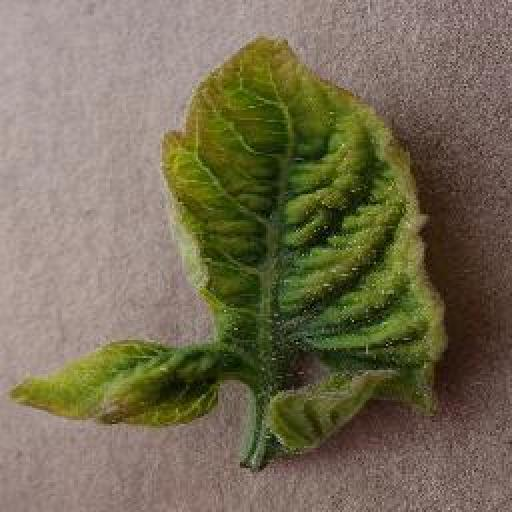disease_tomato: (12, 36, 446, 458)
